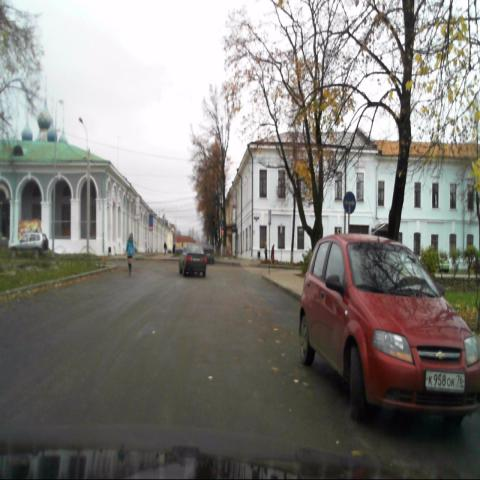4_1_6: (342, 191, 356, 215)
